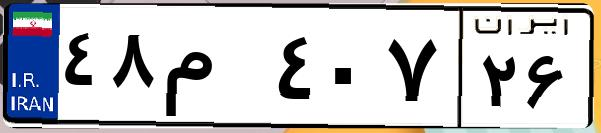0: (330, 28, 385, 110)
2: (475, 38, 525, 113)
4: (270, 28, 330, 110), (57, 26, 110, 100)
6: (525, 38, 570, 115)
7: (385, 28, 445, 110)
8: (110, 28, 158, 98)
م: (158, 20, 270, 120)
